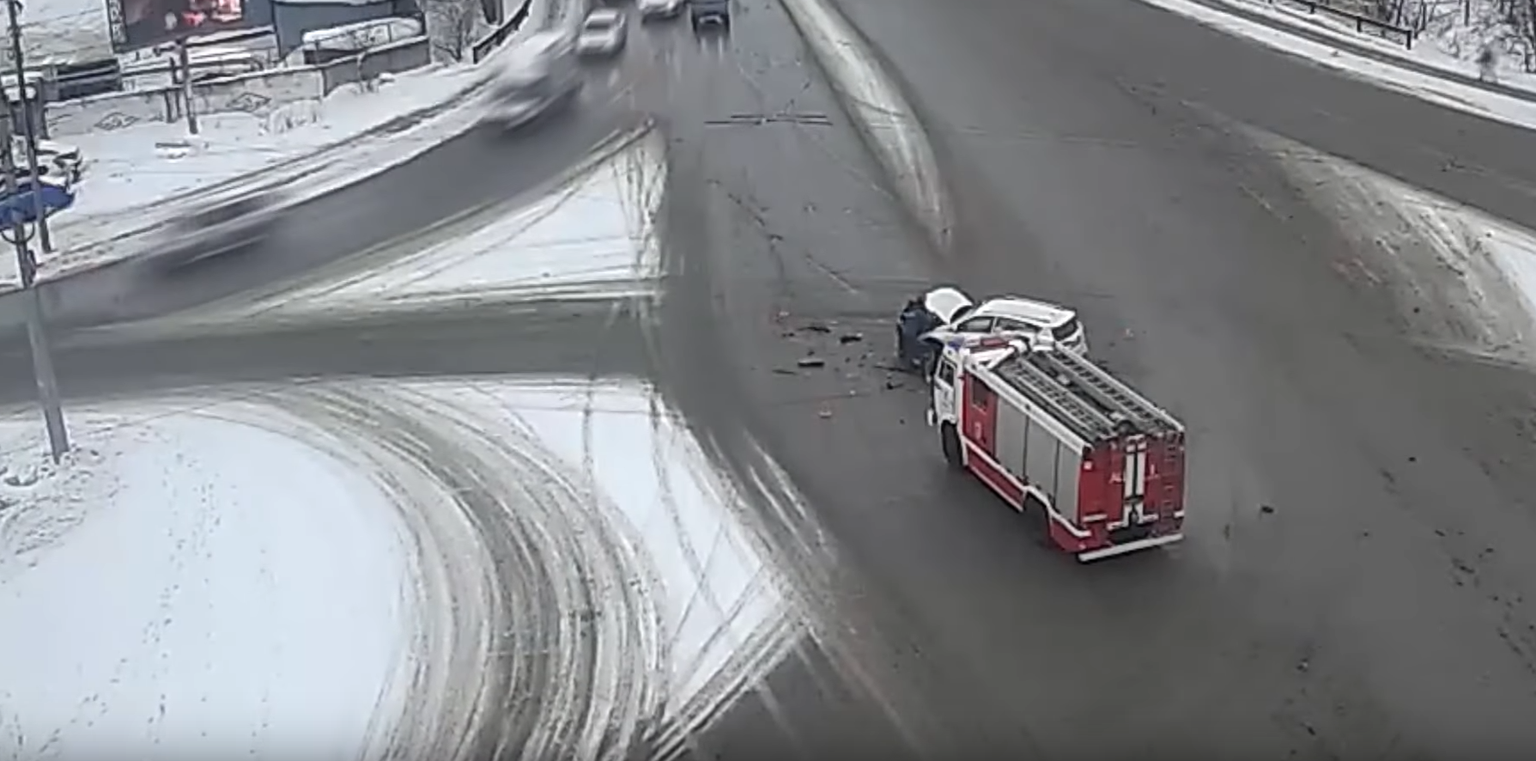car: (916, 283, 1087, 364), (1, 173, 73, 233), (1, 139, 83, 180), (578, 8, 628, 56), (1, 154, 73, 187), (690, 1, 730, 28), (638, 1, 683, 19)
fire_truck: (932, 327, 1190, 561)
pedestrian: (895, 299, 915, 355)
